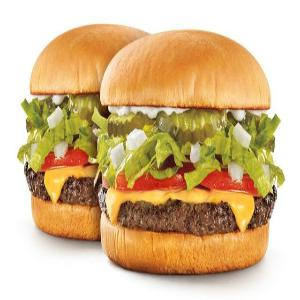cheeseburger: (99, 24, 281, 276)
